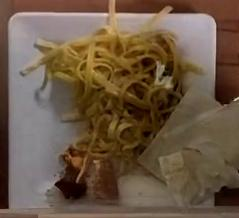pasta: (20, 22, 199, 197)
